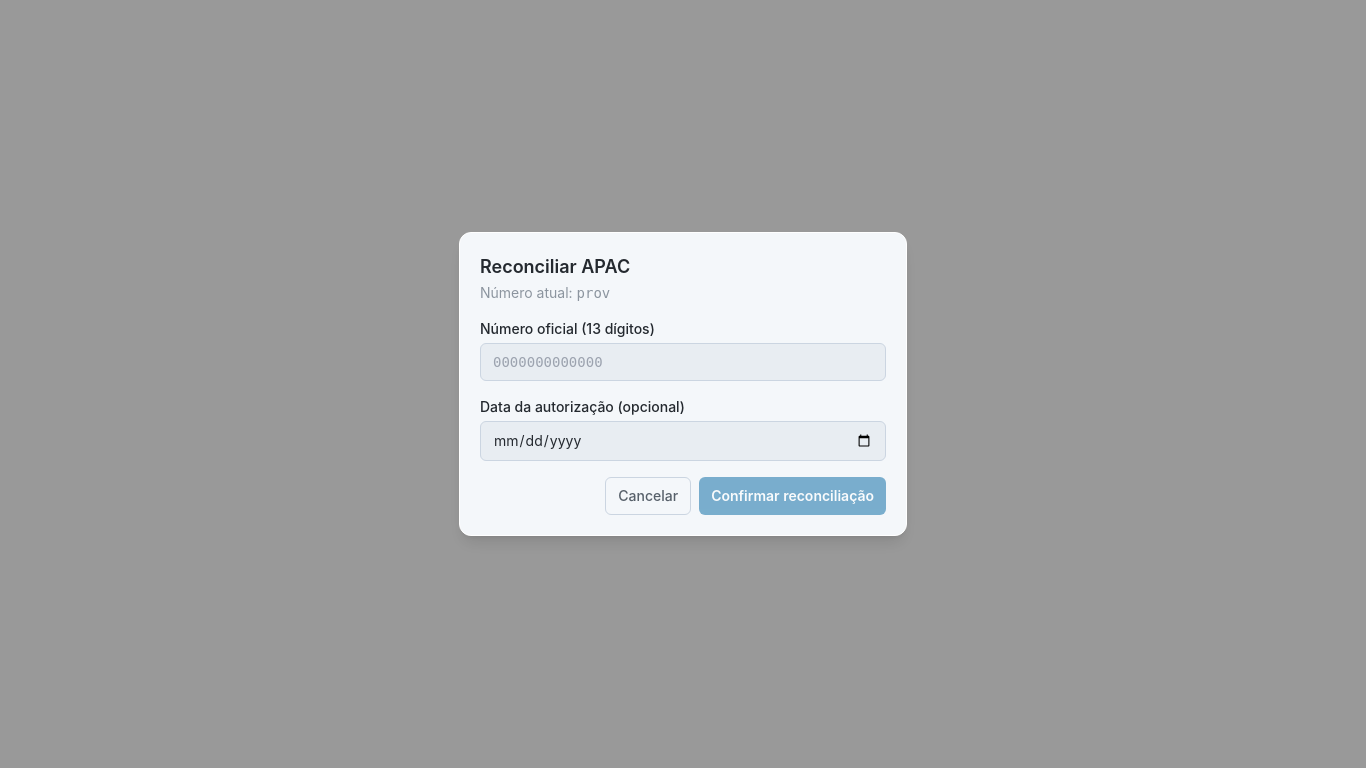
Test: ReconciliarApacModal › surfaces a friendly message on 409
This screenshot has width=1366, height=768.
In the field labelled "Número oficial": (683, 362) [480, 343, 886, 381], type "9999999999999"
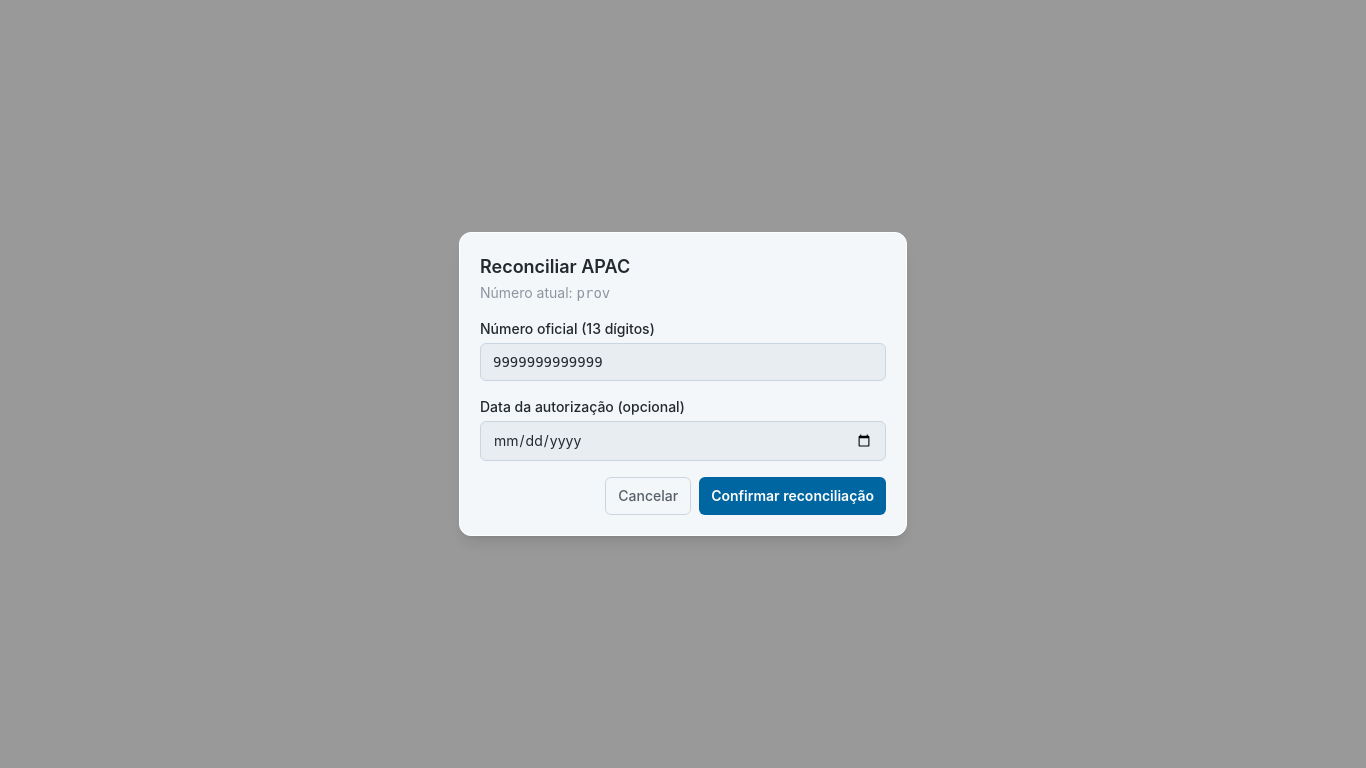
Click the button "Confirmar reconciliação": (793, 496) [699, 477, 886, 515]
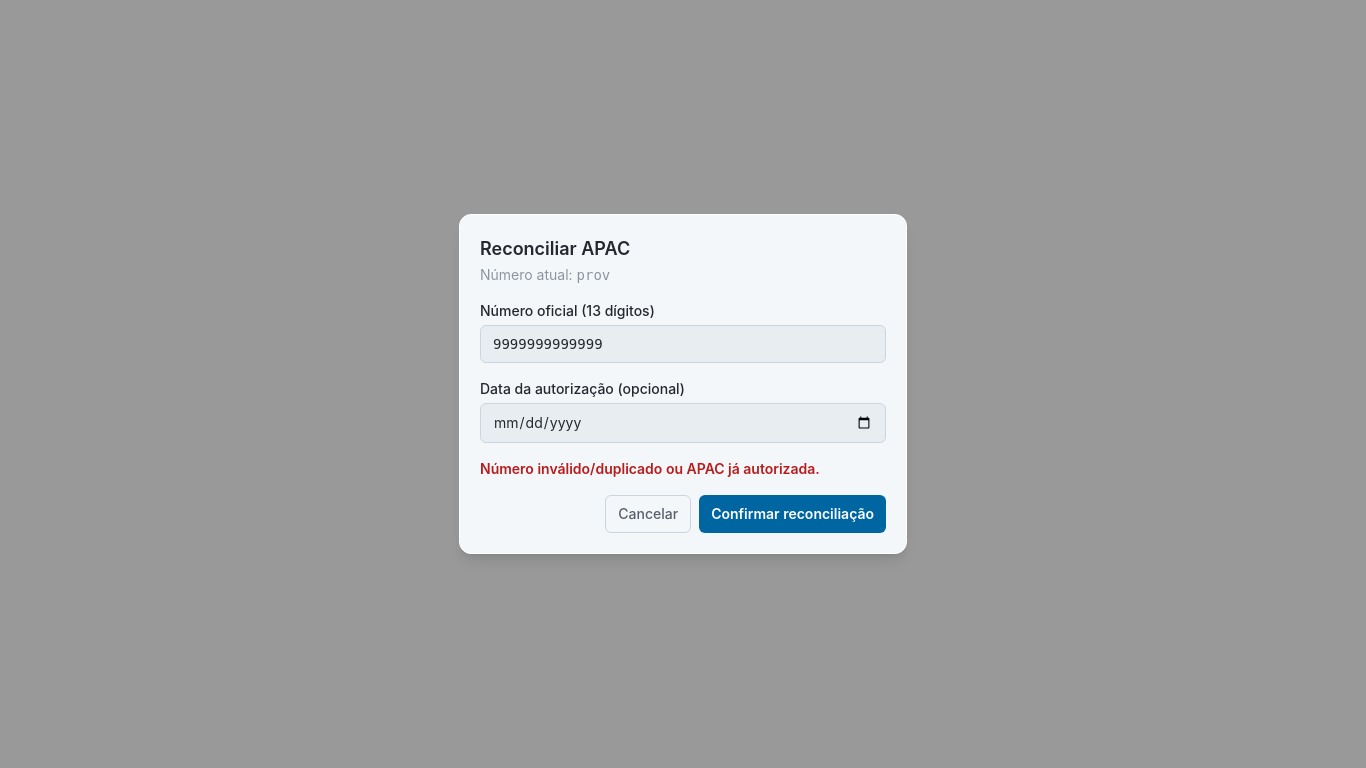
Now the text "Número inválido/duplicado ou APAC já autorizada." is shown, box [480, 460, 820, 477]
